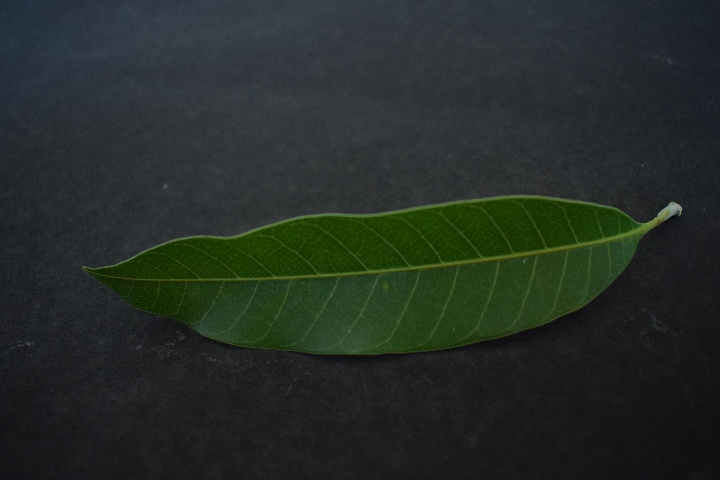healthy: (87, 189, 657, 355)
